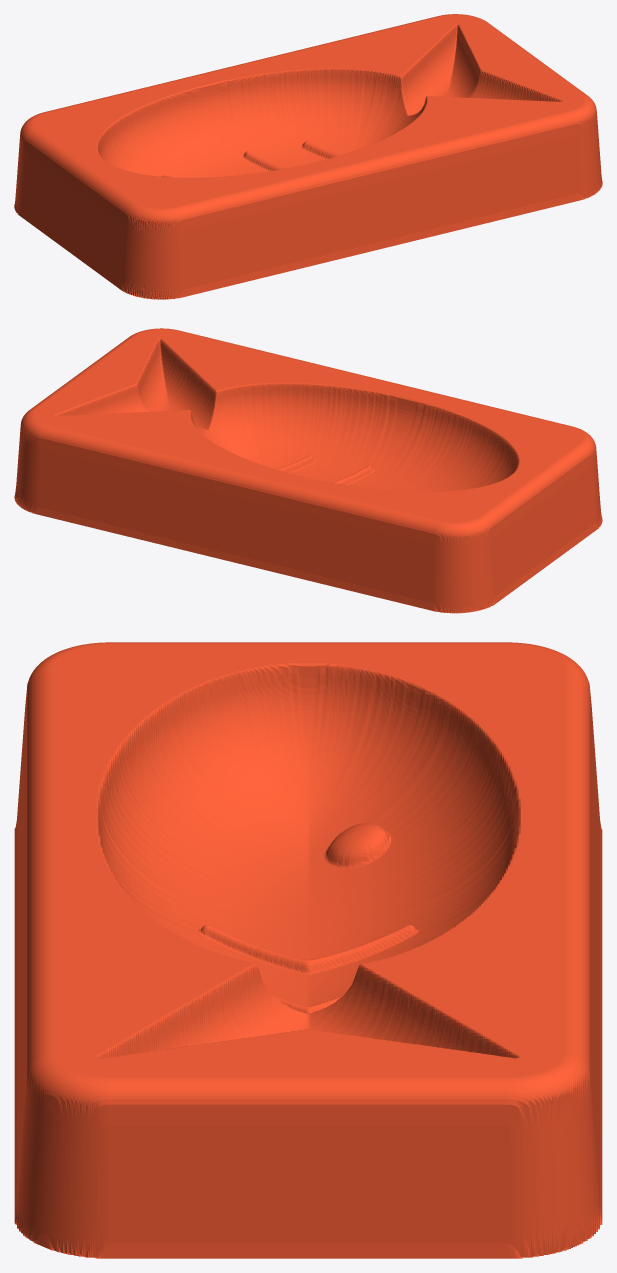
Rendered from mold.glb.
The picture shows the model from 3 angles, top to bottom: view 1: azimuth 30°, elevation 25°; view 2: azimuth 150°, elevation 25°; view 3: azimuth 270°, elevation 25°; orthographic projection. The views are drawn at different scales.
Visible parts, largest first — view 1: geometry_0; view 2: geometry_0; view 3: geometry_0.
Part boxes in pixels (x1,y1,x2,y2): geometry_0: [14, 14, 602, 299]; geometry_0: [14, 328, 602, 613]; geometry_0: [14, 642, 602, 1258].
Bounding box in the file's own units: 0.105 × 0.0175 × 0.0562.
